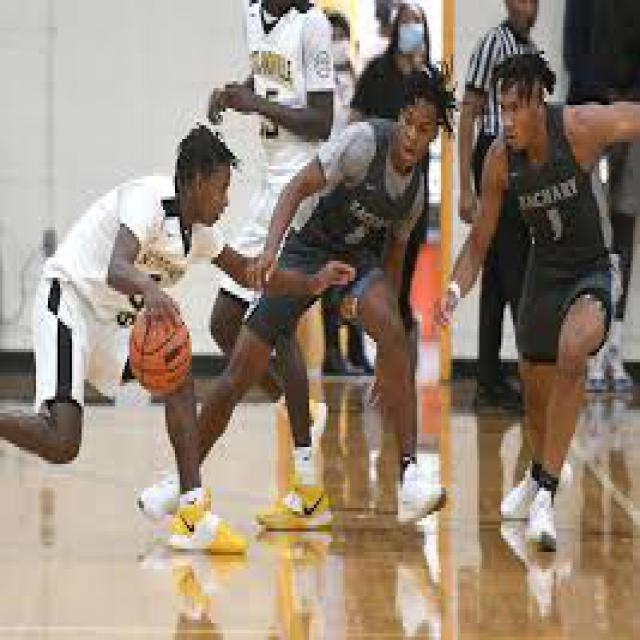basketball: (129, 308, 192, 393)
